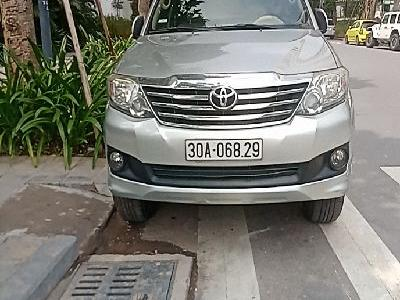number: (184, 138, 262, 161)
